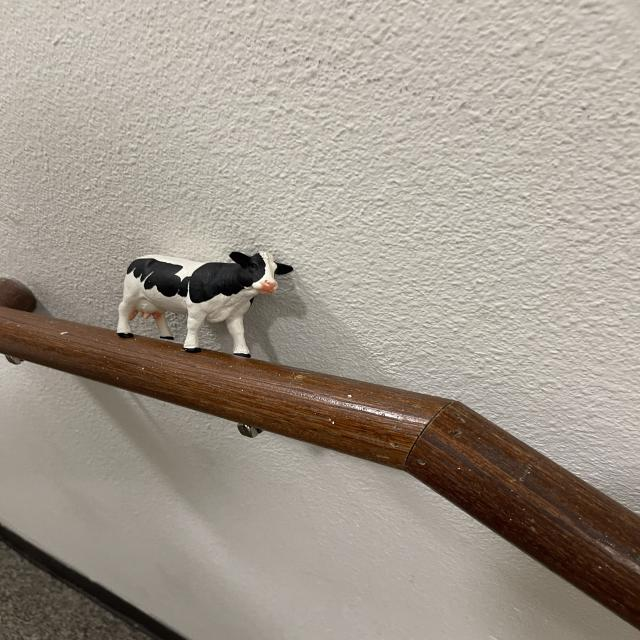cow: (116, 245, 294, 359), (192, 264, 200, 271), (196, 297, 203, 303)
